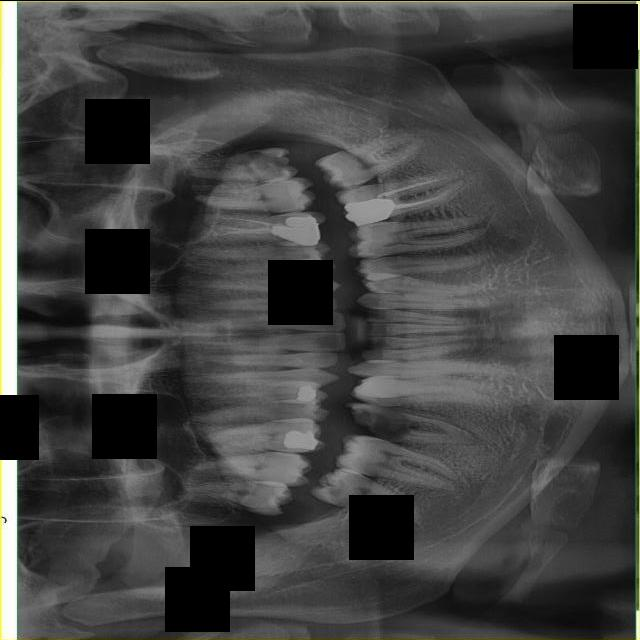74: (377, 171, 445, 199), (392, 185, 455, 213), (215, 221, 271, 236), (221, 212, 272, 228)
NucleOSS Implant: (343, 194, 398, 227), (272, 215, 319, 246), (280, 426, 321, 450), (296, 386, 317, 401)
Sterngold Implant: (351, 403, 416, 443), (247, 147, 290, 178), (321, 472, 348, 498), (285, 260, 322, 271), (348, 176, 361, 189), (364, 250, 387, 257), (364, 222, 383, 229), (347, 184, 366, 189), (267, 180, 285, 184)
